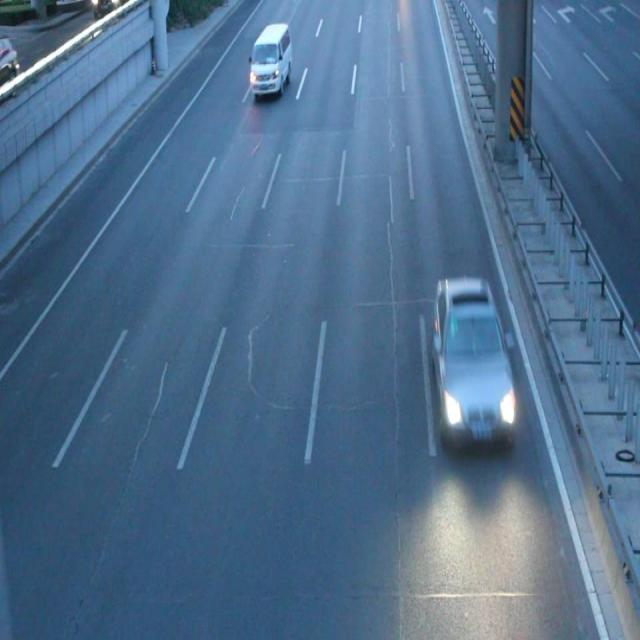car: (430, 276, 513, 451)
truck: (250, 24, 292, 96)
